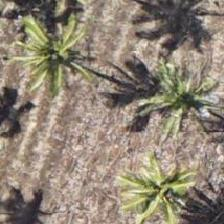coconut_tree: (9, 8, 99, 98)
